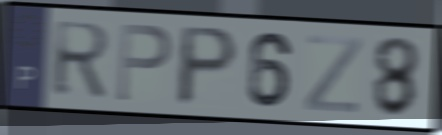6: (246, 29, 294, 112)
8: (372, 34, 420, 121)
P: (173, 23, 242, 109), (114, 20, 174, 105)
R: (51, 19, 114, 100)
Z: (301, 31, 366, 116)
